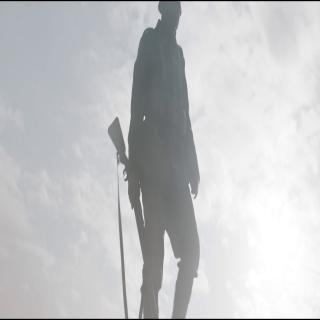gun: (102, 97, 160, 310)
